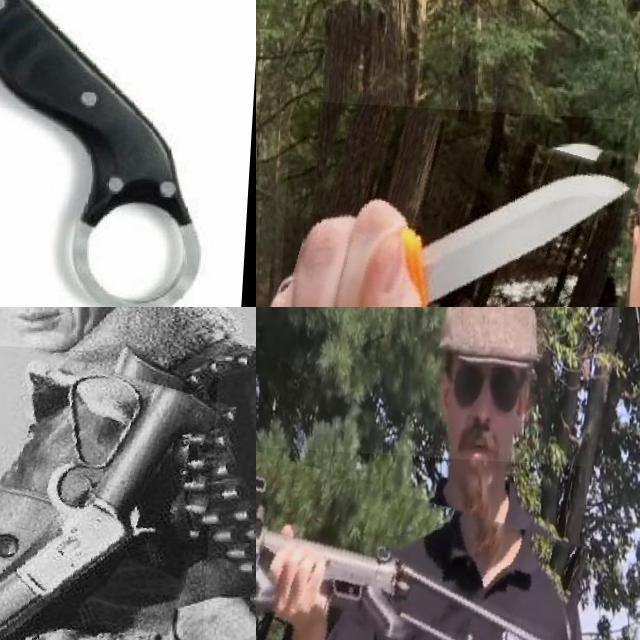-: (278, 99, 630, 307), (0, 0, 191, 195)
gun-knife-thesis - v11 Yolov5 augmented: (256, 437, 588, 640), (0, 338, 222, 640)
